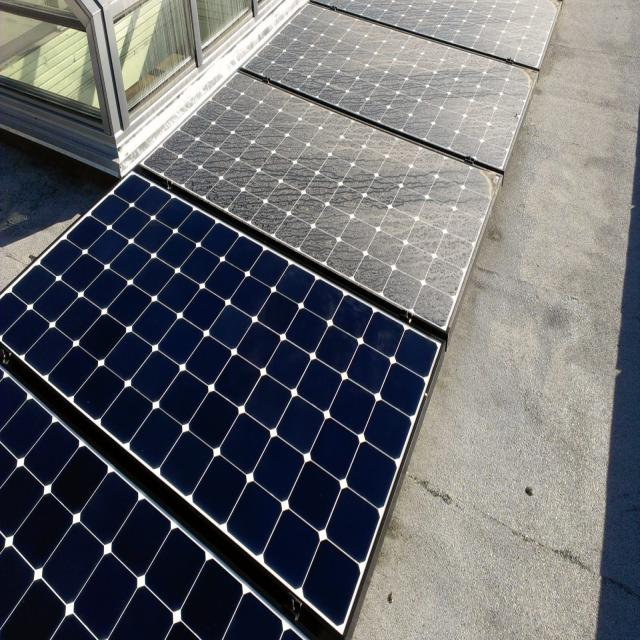dust-solar-panel: (140, 1, 562, 329)
